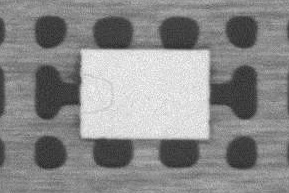DIE_CRACK: (82, 74, 114, 114)
